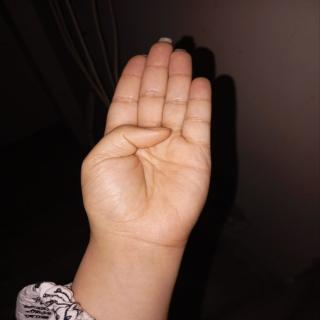KAAF: (73, 33, 237, 255)
